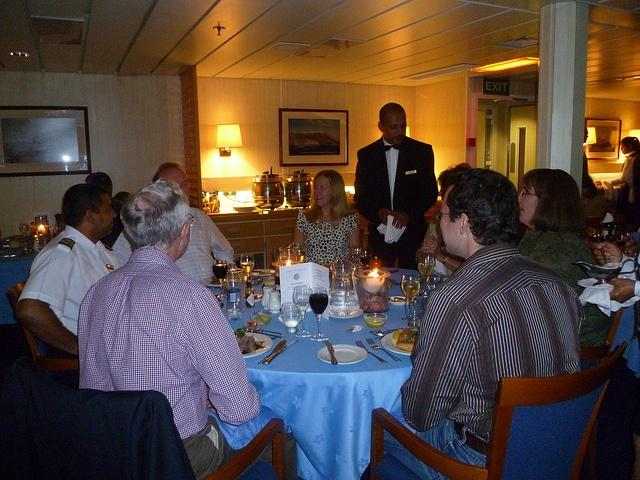Kursi: (367, 342, 626, 479)
